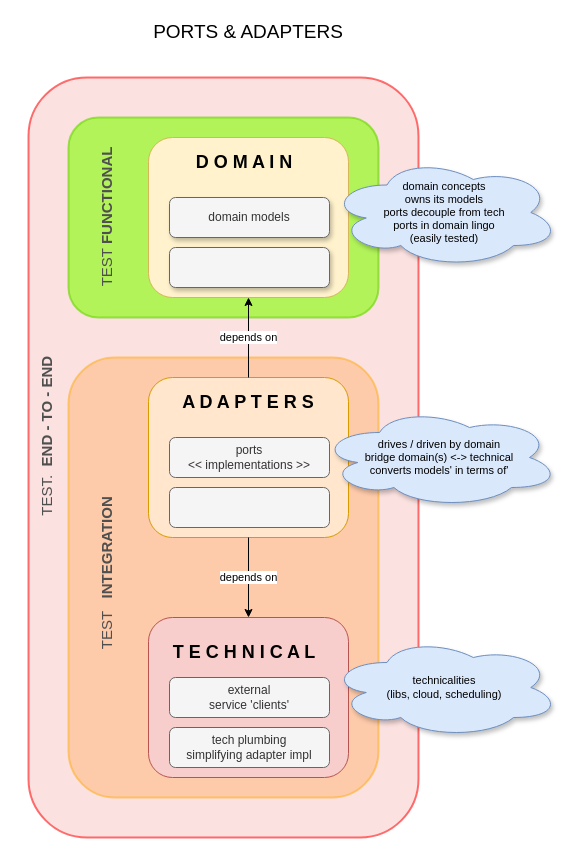
Some shapes in this 583 by 855 pixel diagram are drawn without their labels. The shapes that lost their labels are listed below. From the top down, each one's centre as x and y in pixels, then its label:
point (250, 268): ports << interfaces >>
point (249, 507): model converters
